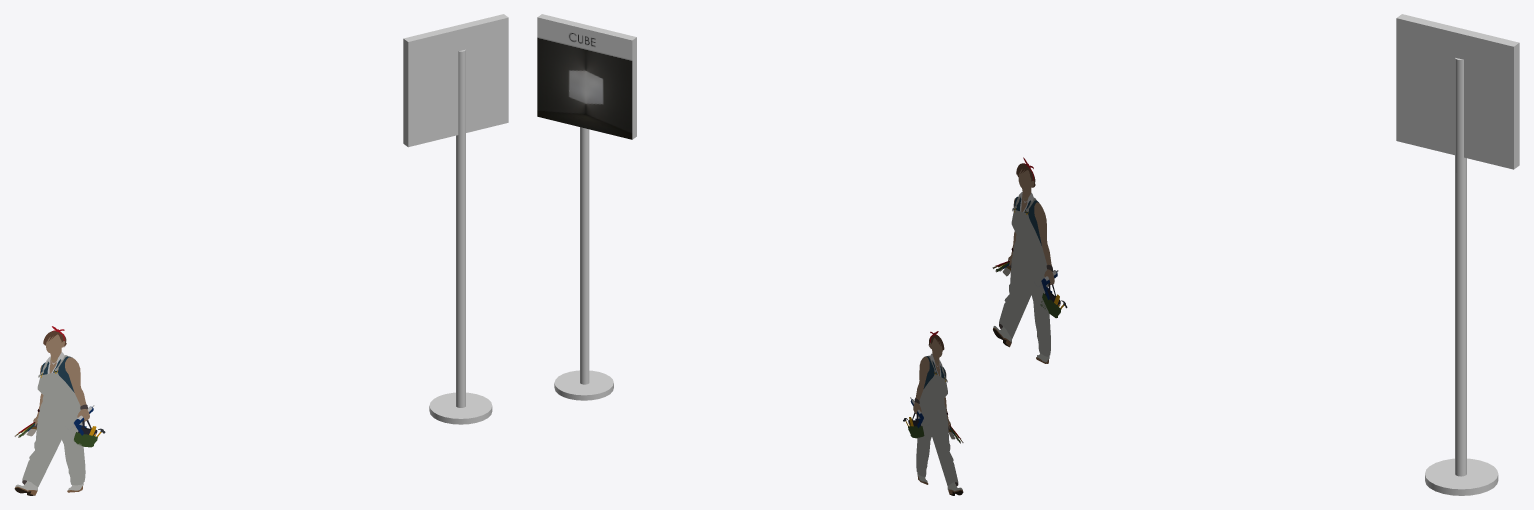
3 views of the same model, side by side, from view 1: azimuth 30°, elevation 25°; view 2: azimuth 150°, elevation 25°; view 3: azimuth 330°, elevation 25° (orthographic). The views are drawn at different scales.
Parts seen in each view (by area): view 1: Model, Lisanne1; view 2: Model, Lisanne1; view 3: Model, Lisanne1.
Boxes of the visible parts, x1,y1,x2,y2 form: Model: (403,14,508,424); Lisanne1: (14,326,105,495); Model: (537,14,636,400); Lisanne1: (903,331,963,495); Model: (1396,14,1519,495); Lisanne1: (992,157,1067,363).
Size of the model in its own units: 195 by 152 by 27.52.
